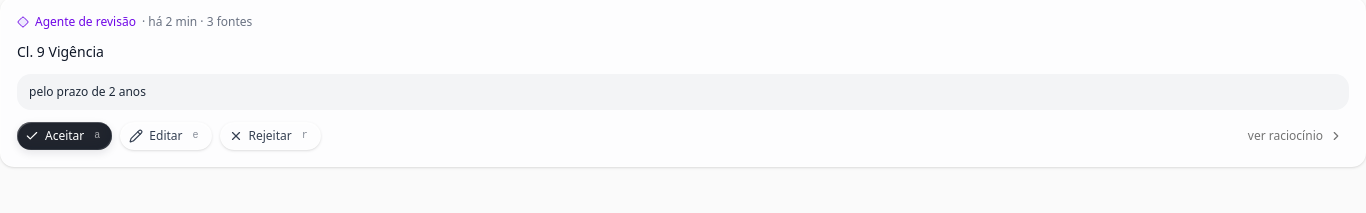
Test: AgentSuggestion › shows the reasoning on request
Click the 4th button named "ver raciocínio" at {"x": 1295, "y": 136}, box [1242,128,1349,144]
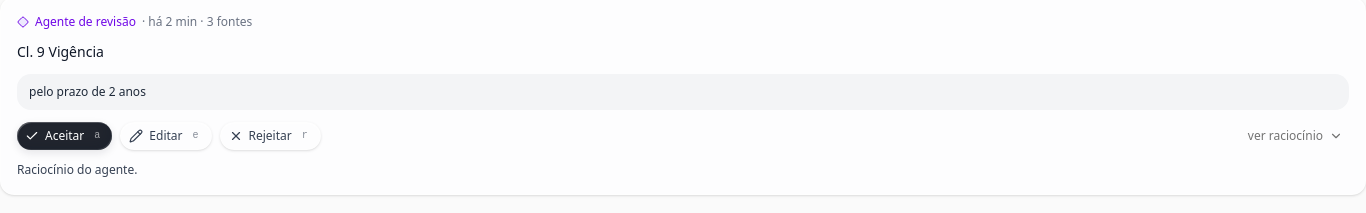
Expected: the text "Raciocínio do agente." is shown, [17,160,137,178]
